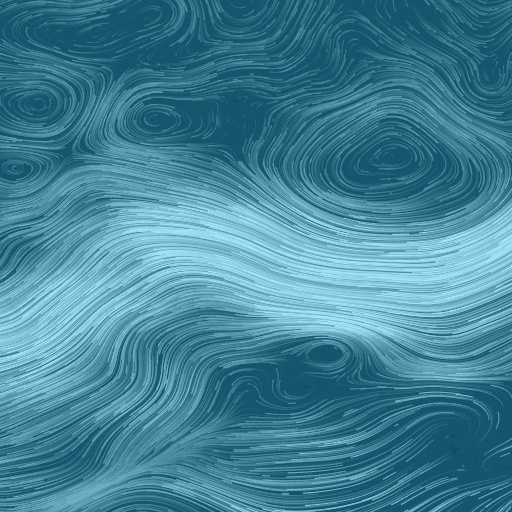eddy: (309, 105, 474, 209), (12, 1, 192, 61), (3, 71, 81, 135), (122, 98, 202, 140), (305, 339, 354, 372), (3, 152, 48, 184)
